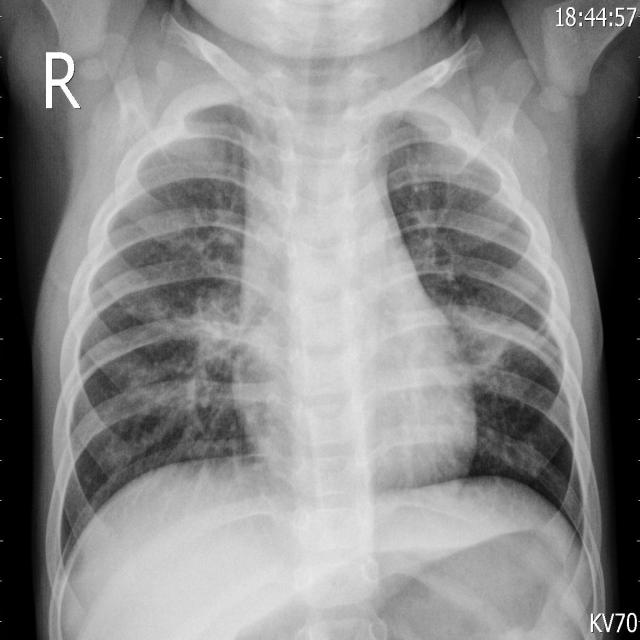low-pneumonia: (447, 280, 547, 398), (138, 88, 244, 187), (173, 257, 242, 396)
